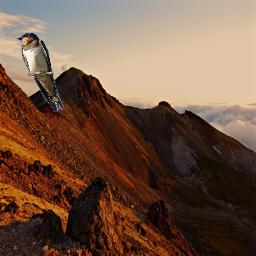Swallow: (16, 32, 64, 112)
